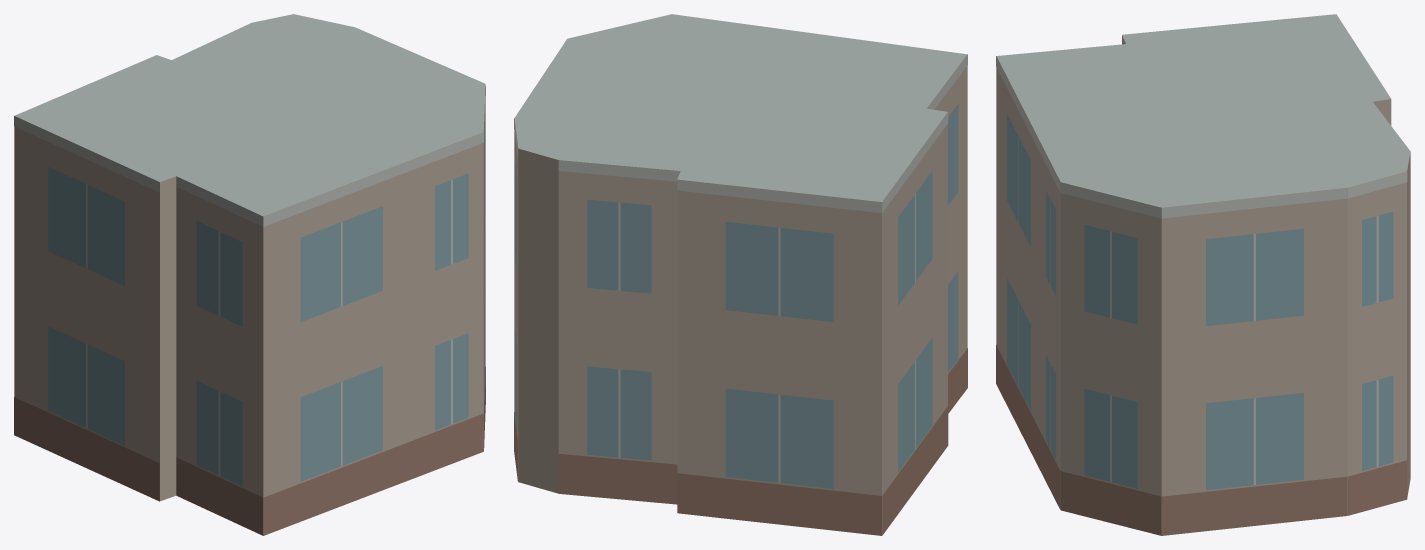
File: survey-upis-32500126.glb
3 views of the same model, side by side, from view 1: azimuth 30°, elevation 25°; view 2: azimuth 150°, elevation 25°; view 3: azimuth 270°, elevation 25° (orthographic). The views are drawn at different scales.
Parts seen in each view (by area): view 1: survey-upis-32500126.tmp; view 2: survey-upis-32500126.tmp; view 3: survey-upis-32500126.tmp.
Part boxes in pixels (bbox=[...]): survey-upis-32500126.tmp: bbox=[14, 14, 485, 535]; survey-upis-32500126.tmp: bbox=[514, 14, 967, 535]; survey-upis-32500126.tmp: bbox=[996, 14, 1410, 535].
Bounding box in the file's own units: 9.38 × 7.4 × 8.48.
